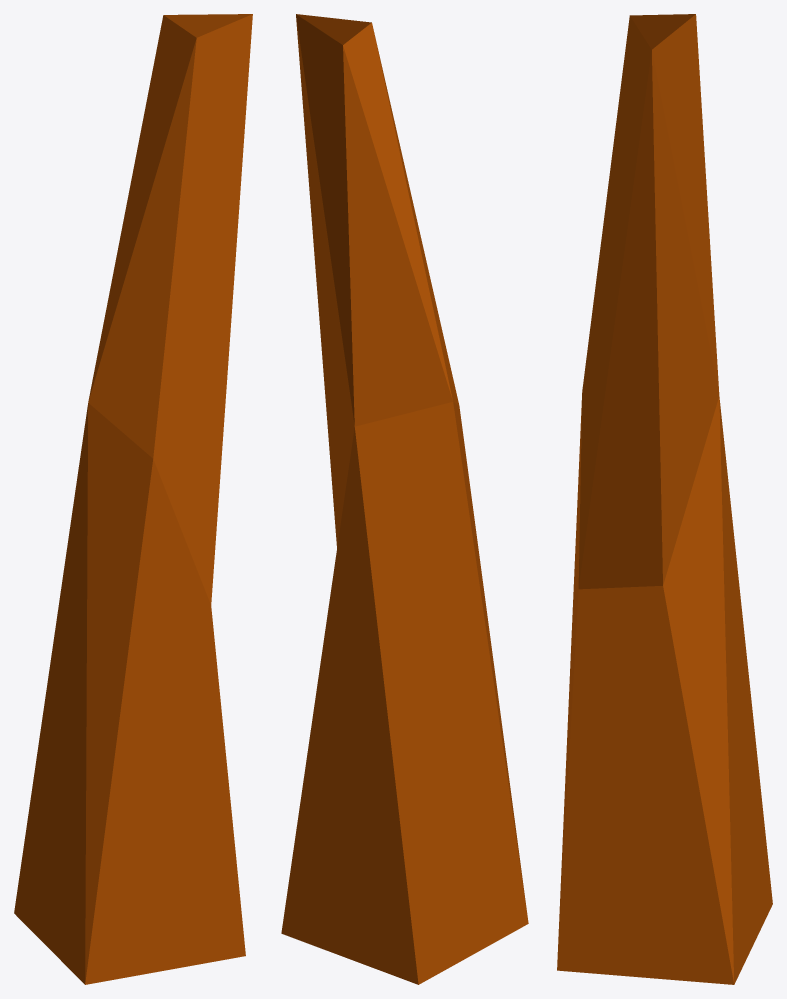
Rendered from stvol1.glb.
3 views of the same model, side by side, from view 1: azimuth 30°, elevation 25°; view 2: azimuth 150°, elevation 25°; view 3: azimuth 270°, elevation 25° (orthographic). The views are drawn at different scales.
Visible parts, largest first — view 1: Декор.001; view 2: Декор.001; view 3: Декор.001.
Part boxes in pixels (x1,y1,x2,y2): Декор.001: (14,14,252,984); Декор.001: (281,14,528,984); Декор.001: (557,14,772,984).
Size of the model in its own units: 3.36 by 14.29 by 2.95.
